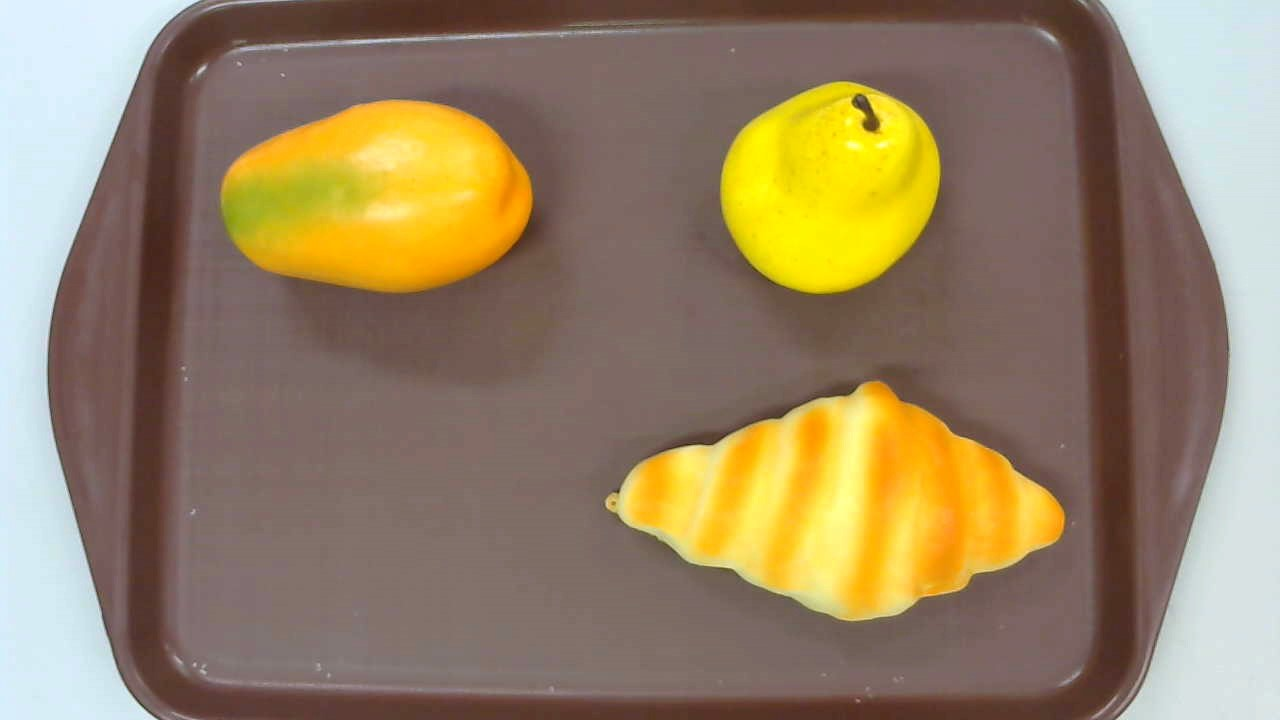croissant: (604, 381, 1067, 623)
papya: (221, 100, 532, 295)
yellow pear: (720, 82, 941, 294)
